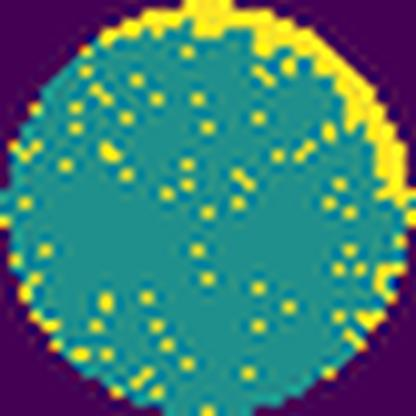Edge-Loc: (101, 0, 415, 213)
